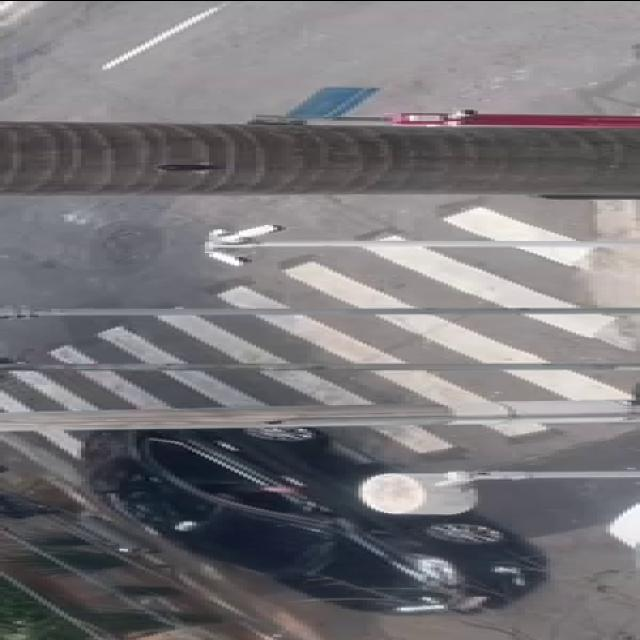car: (120, 412, 500, 612)
